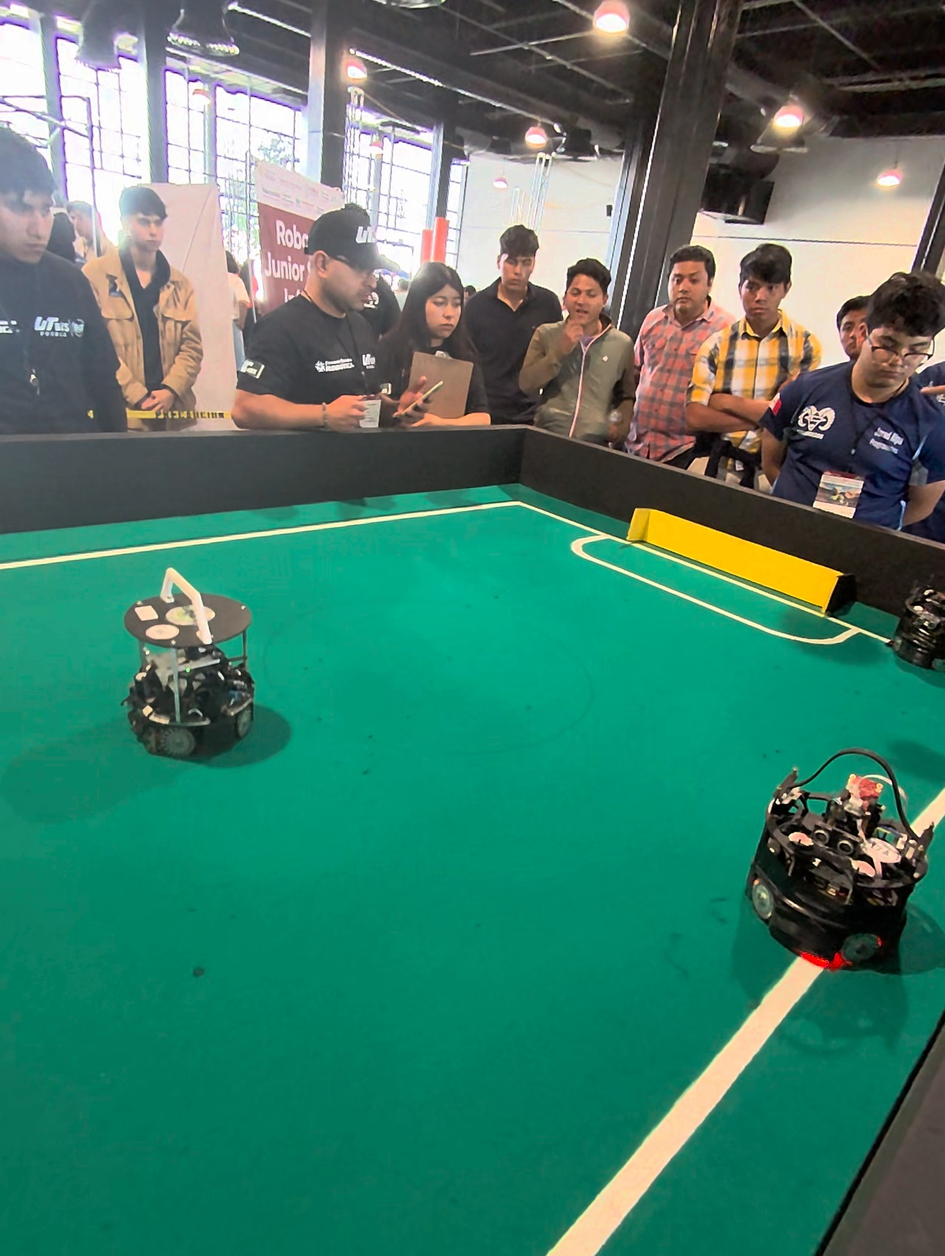Robot: (752, 735, 935, 987), (119, 570, 268, 776), (890, 574, 945, 680)
